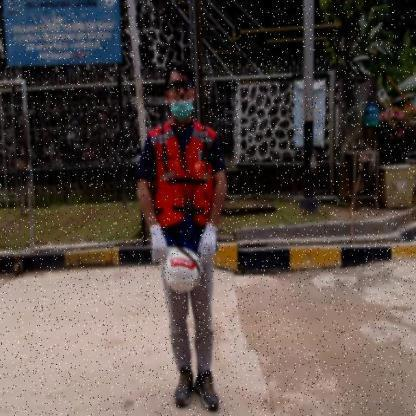boots: (194, 370, 218, 412), (174, 366, 194, 406)
gloves: (199, 224, 217, 264), (150, 224, 167, 264)
goggles: (170, 80, 194, 91)
helmet: (165, 246, 202, 293)
mask: (171, 100, 193, 122)
vest: (155, 162, 210, 225)
